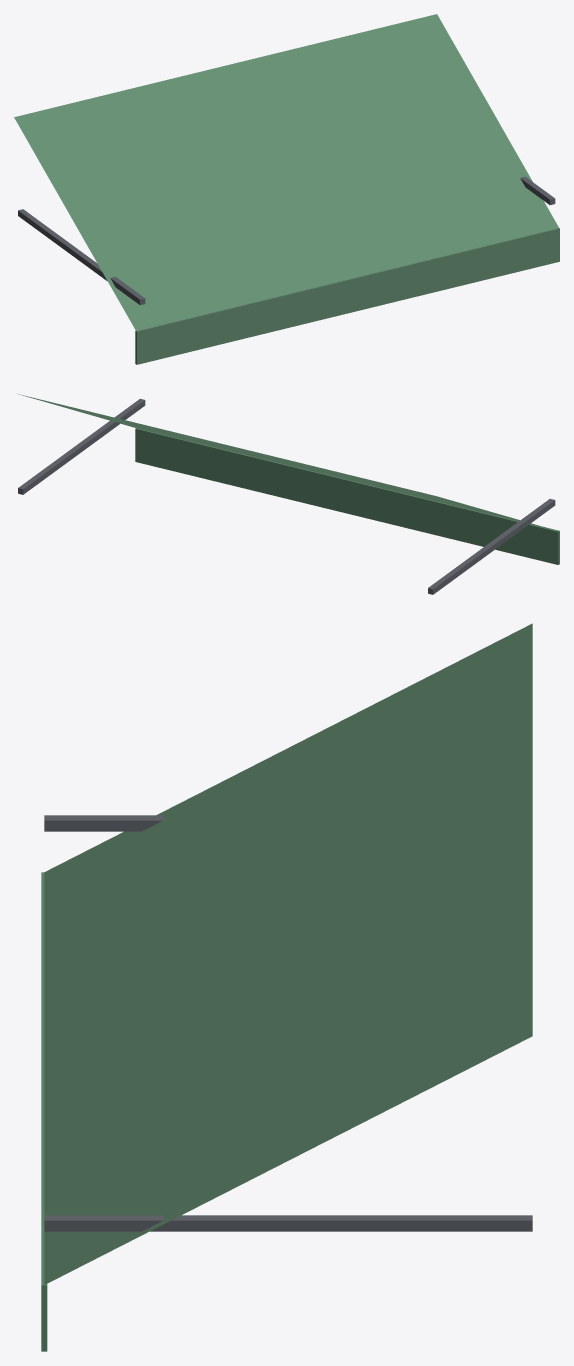
The model's file is arkham_prop_shopawning.glb.
3 views of the same model, one above another, from view 1: azimuth 30°, elevation 25°; view 2: azimuth 150°, elevation 25°; view 3: azimuth 270°, elevation 25° (orthographic). The views are drawn at different scales.
Visible parts, largest first — view 1: Arkham_Prop_ShopAwning; view 2: Arkham_Prop_ShopAwning; view 3: Arkham_Prop_ShopAwning.
Part boxes in pixels (x1=…): Arkham_Prop_ShopAwning: x1=14, y1=14, x2=559, y2=364; Arkham_Prop_ShopAwning: x1=18, y1=394, x2=559, y2=594; Arkham_Prop_ShopAwning: x1=41, y1=623, x2=532, y2=1351.
Size of the model in its own units: 3.2 by 1.14 by 1.61.
